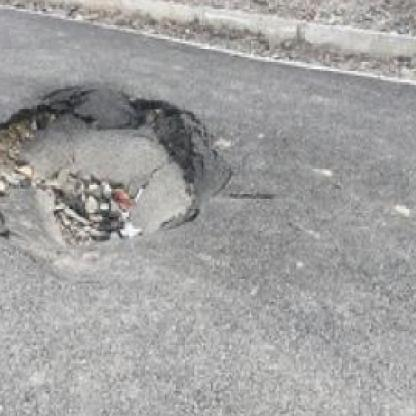pothole: (0, 84, 237, 267)
